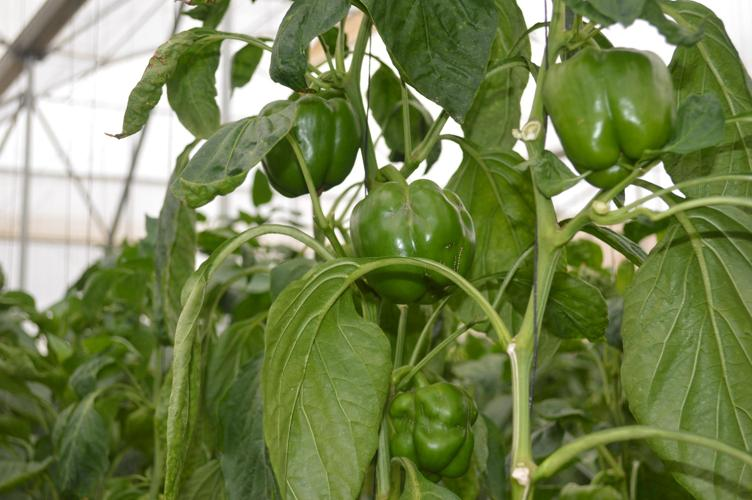BellPepper: (538, 48, 677, 178), (354, 181, 470, 298), (251, 94, 353, 194), (391, 385, 477, 484)
